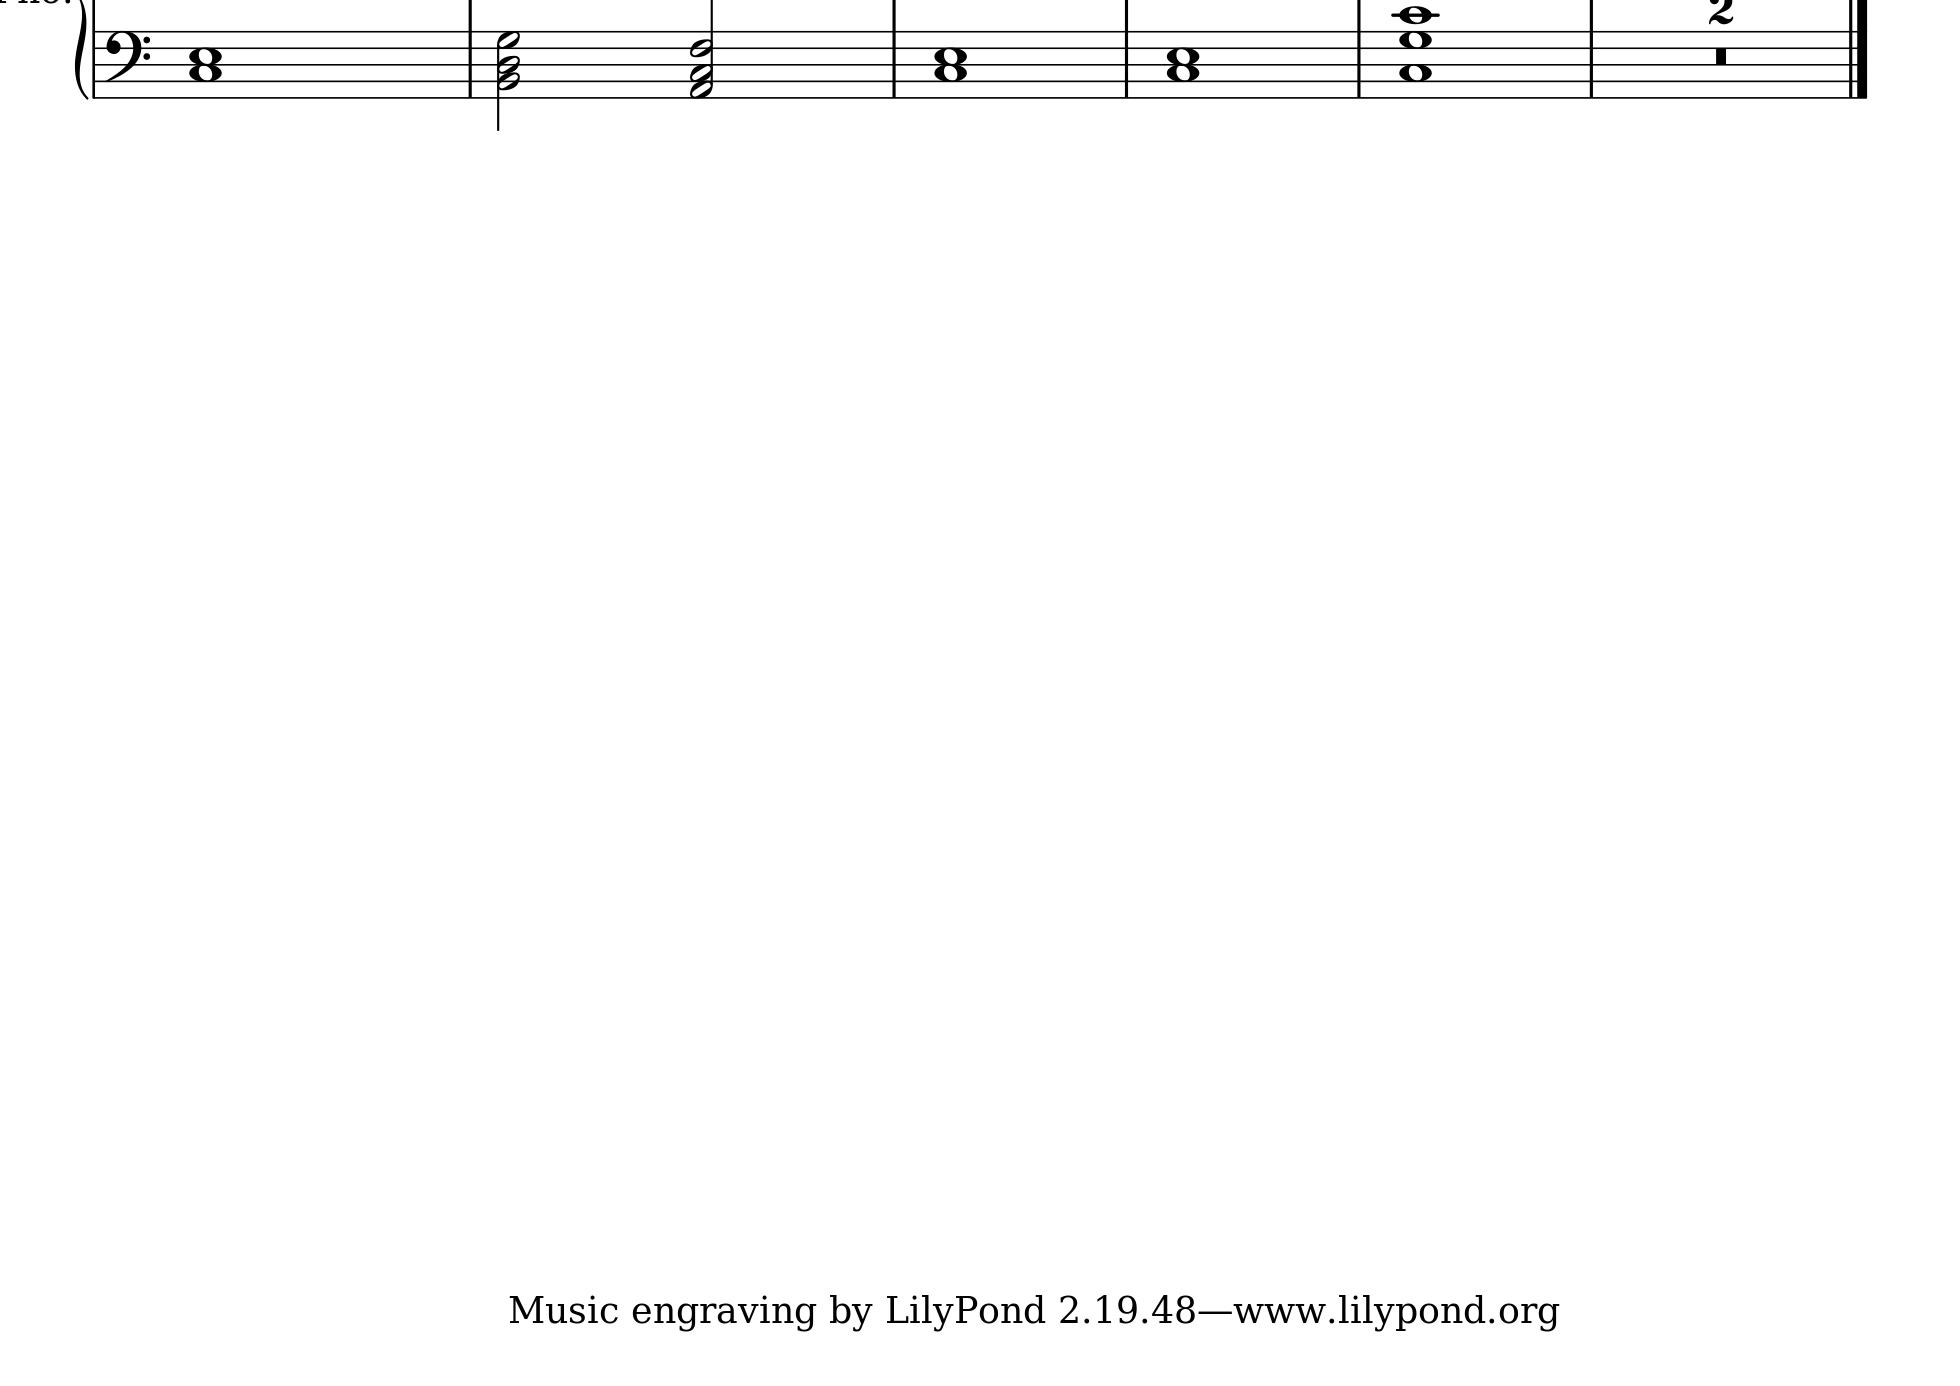1_3_5: (187, 28, 226, 100), (931, 27, 969, 99), (1162, 28, 1200, 100)
1_th: (1389, 1, 1440, 97)
2_th: (688, 1, 715, 103), (495, 28, 520, 129)
Fclef: (103, 28, 154, 97)
Final_barline: (1842, 30, 1869, 97)
Single_barline: (885, 30, 904, 97), (1117, 30, 1137, 97), (1350, 30, 1369, 97), (1582, 31, 1600, 97), (462, 30, 478, 97), (88, 31, 102, 99)
